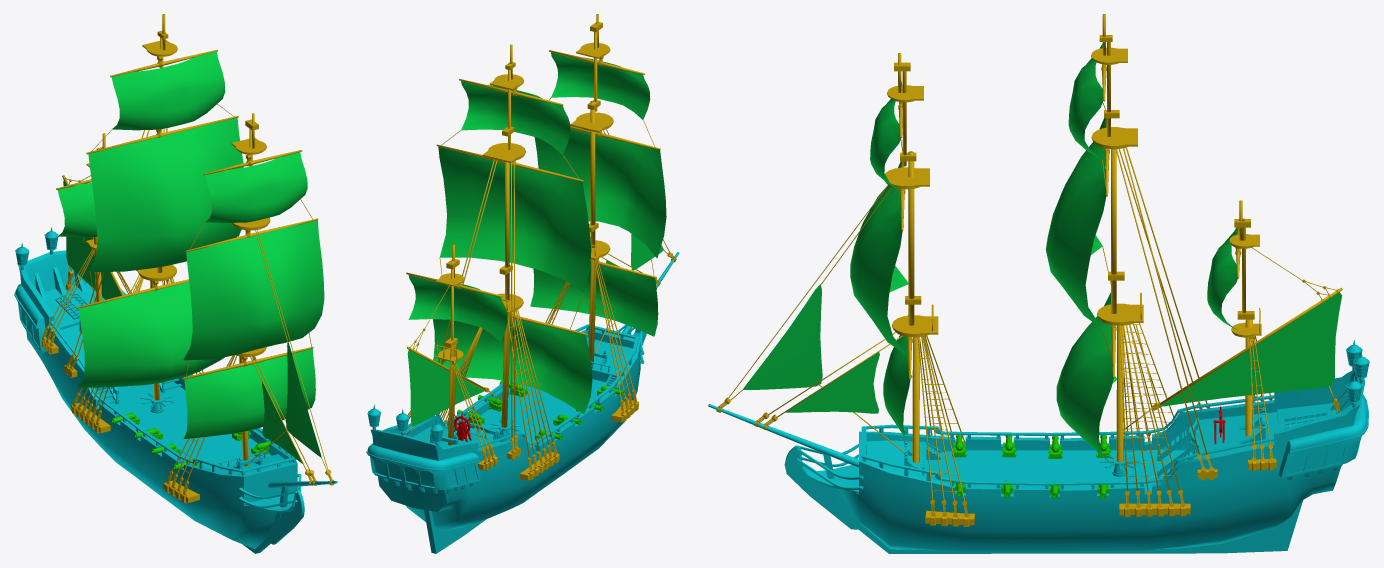
File: Ship.fbx
3 views of the same model, side by side, from view 1: azimuth 30°, elevation 25°; view 2: azimuth 150°, elevation 25°; view 3: azimuth 270°, elevation 25° (orthographic). The views are drawn at different scales.
Parts seen in each view (by area): view 1: Plane.001, MiddleMiddle, FrontMiddle.001, FrontMiddle, MiddleBottom, MiddleMiddle.001, Floor, Plane.006, MiddleBottom.001, MiddleTop, Plane.002, MiddleTop.002 (+22 smaller); view 2: Plane.001, MiddleMiddle, MiddleMiddle.001, FrontMiddle.001, MiddleBottom.001, FrontMiddle, Floor, MiddleBottom, Plane.002, Plane.005, MiddleTop, MiddleTop.001 (+22 smaller); view 3: Plane.001, Floor, Plane.005, MiddleMiddle.001, FrontMiddle.001, Plane.010, MiddleBottom.001, UnderBoat, Plane.008, ArmRail, Plane.003, MiddleMiddle (+26 smaller).
Part boxes in pixels (x1,y1,x2,y2): Plane.001: (18,250,297,548); MiddleMiddle: (88,133,228,271); FrontMiddle.001: (190,220,324,359); FrontMiddle: (183,234,324,360); MiddleBottom: (77,286,221,387); MiddleMiddle.001: (94,117,243,271); Floor: (44,283,288,473); Plane.006: (183,363,315,438); MiddleBottom.001: (82,282,224,386); MiddleTop: (111,61,224,130); Plane.002: (186,348,315,436); MiddleTop.002: (205,161,307,222); Plane.001: (370,329,640,530); MiddleMiddle: (438,146,591,281); MiddleMiddle.001: (445,165,591,292); FrontMiddle.001: (537,135,666,258); MiddleBottom.001: (433,319,592,414); FrontMiddle: (534,129,666,243); Floor: (413,337,632,448); MiddleBottom: (433,318,591,402); Plane.002: (533,263,658,336); Plane.005: (407,350,484,426); MiddleTop: (461,81,569,138); MiddleTop.001: (466,87,570,154); Plane.001: (838,370,1365,551); Floor: (866,403,1338,492); Plane.005: (1160,292,1341,406); MiddleMiddle.001: (1046,161,1106,328); FrontMiddle.001: (850,189,908,356); Plane.010: (1160,293,1338,406); MiddleBottom.001: (1056,325,1117,469); UnderBoat: (823,453,1303,553); Plane.008: (766,284,822,388); ArmRail: (861,395,1274,485); Plane.003: (786,352,879,413); MiddleMiddle: (1046,118,1105,313).
Bounding box in the file's own units: 133 × 358 × 399.
